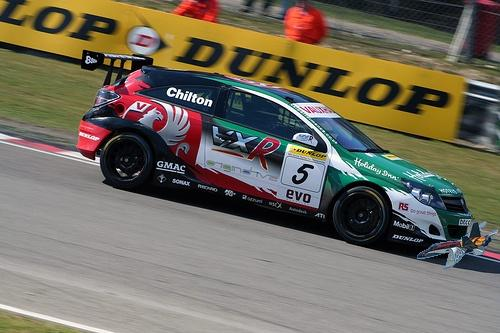tampered: (418, 222, 498, 269)
